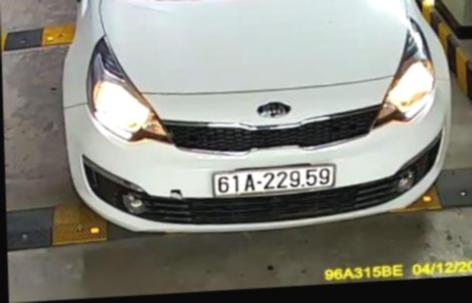License_Plate: (201, 158, 341, 202)
